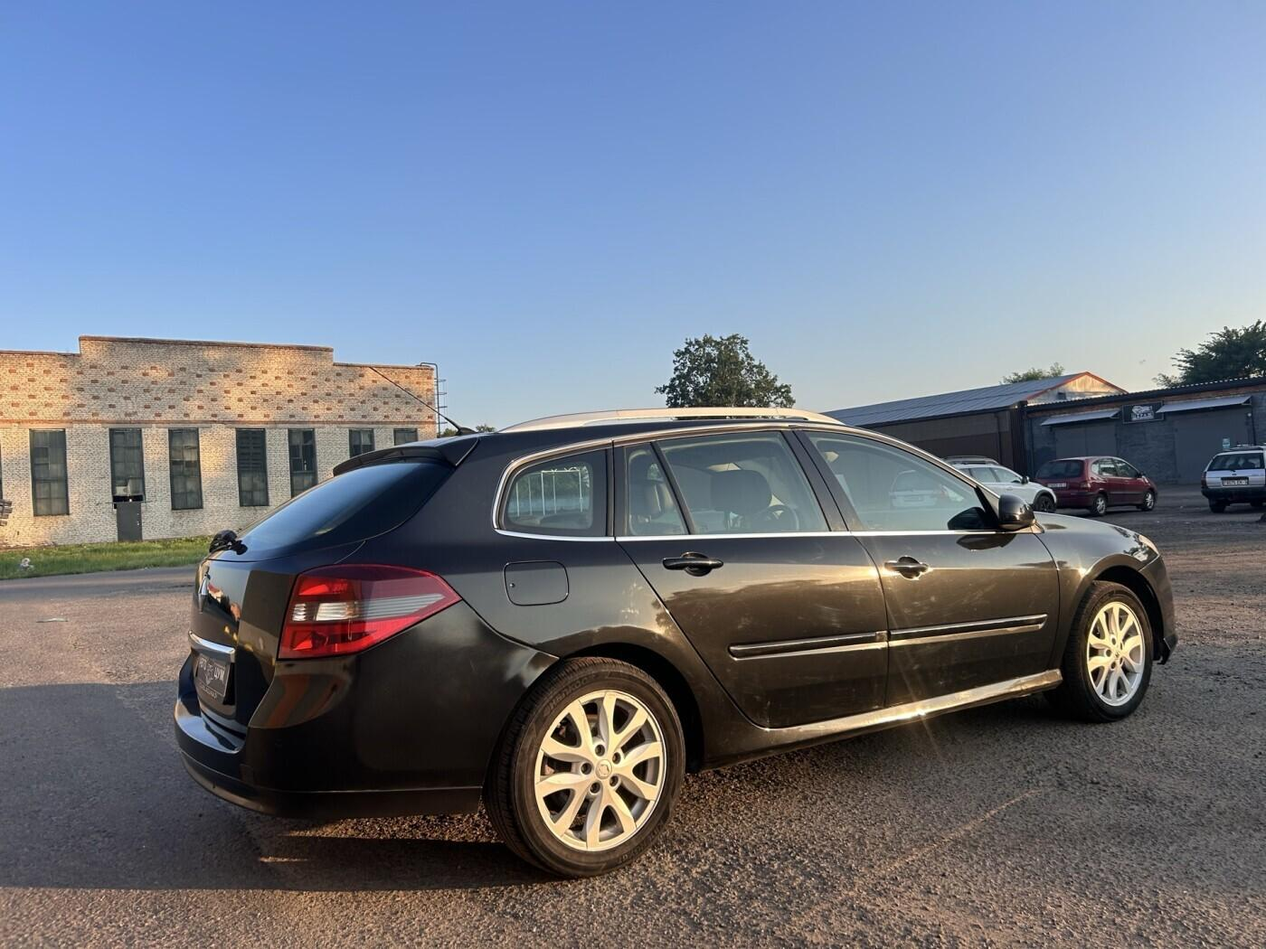Laguna_2007-2011: (175, 407, 1176, 877)
